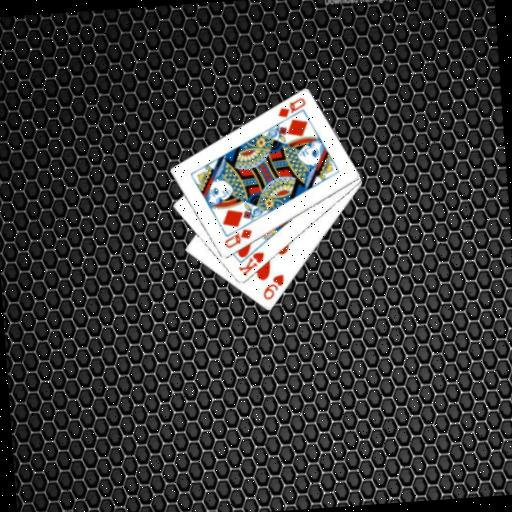9H: (259, 271, 287, 302)
KH: (235, 249, 268, 278)
QD: (273, 95, 308, 120), (221, 226, 255, 251)
